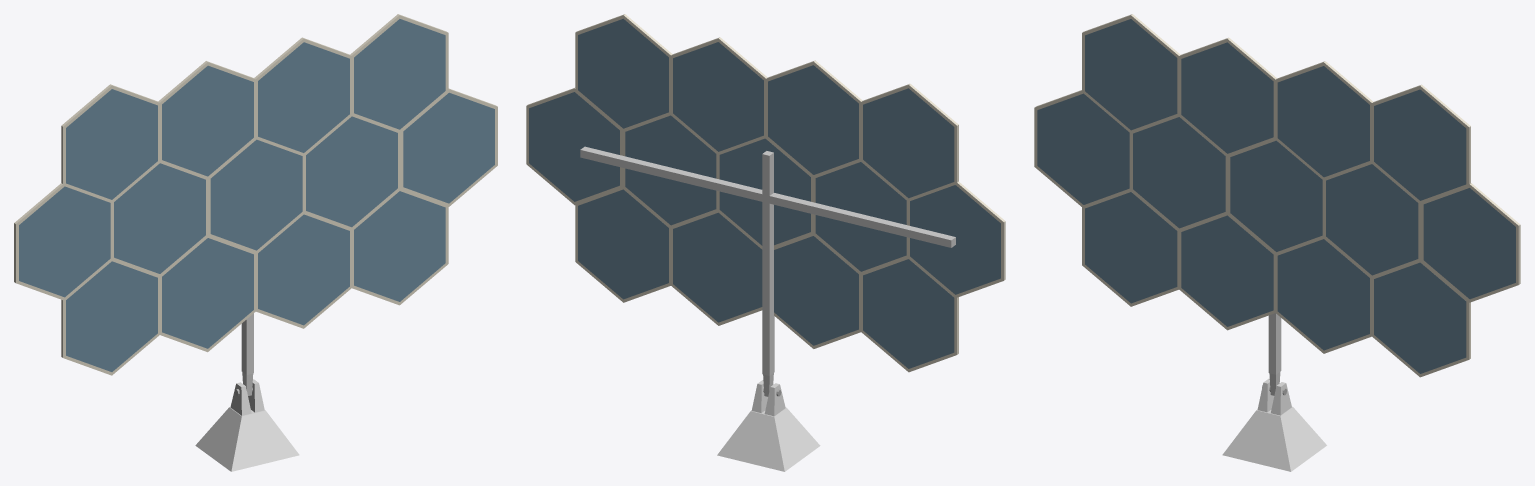
The model's file is a solar panel3.fbx.
3 renders of one model, left to right at view 1: azimuth 30°, elevation 25°; view 2: azimuth 150°, elevation 25°; view 3: azimuth 330°, elevation 25°, orthographic.
Parts seen in each view (by area): view 1: Cube, Cylinder; view 2: Cube, Cylinder; view 3: Cube, Cylinder.
Boxes of the visible parts, x1=… form: Cube: x1=14, y1=14, x2=497, y2=395; Cylinder: x1=195, y1=379, x2=299, y2=471; Cube: x1=526, y1=14, x2=1005, y2=396; Cylinder: x1=717, y1=380, x2=820, y2=471; Cube: x1=1034, y1=14, x2=1520, y2=395; Cylinder: x1=1222, y1=378, x2=1326, y2=471.
Size of the model in its own units: 454 by 362 by 58.8.
